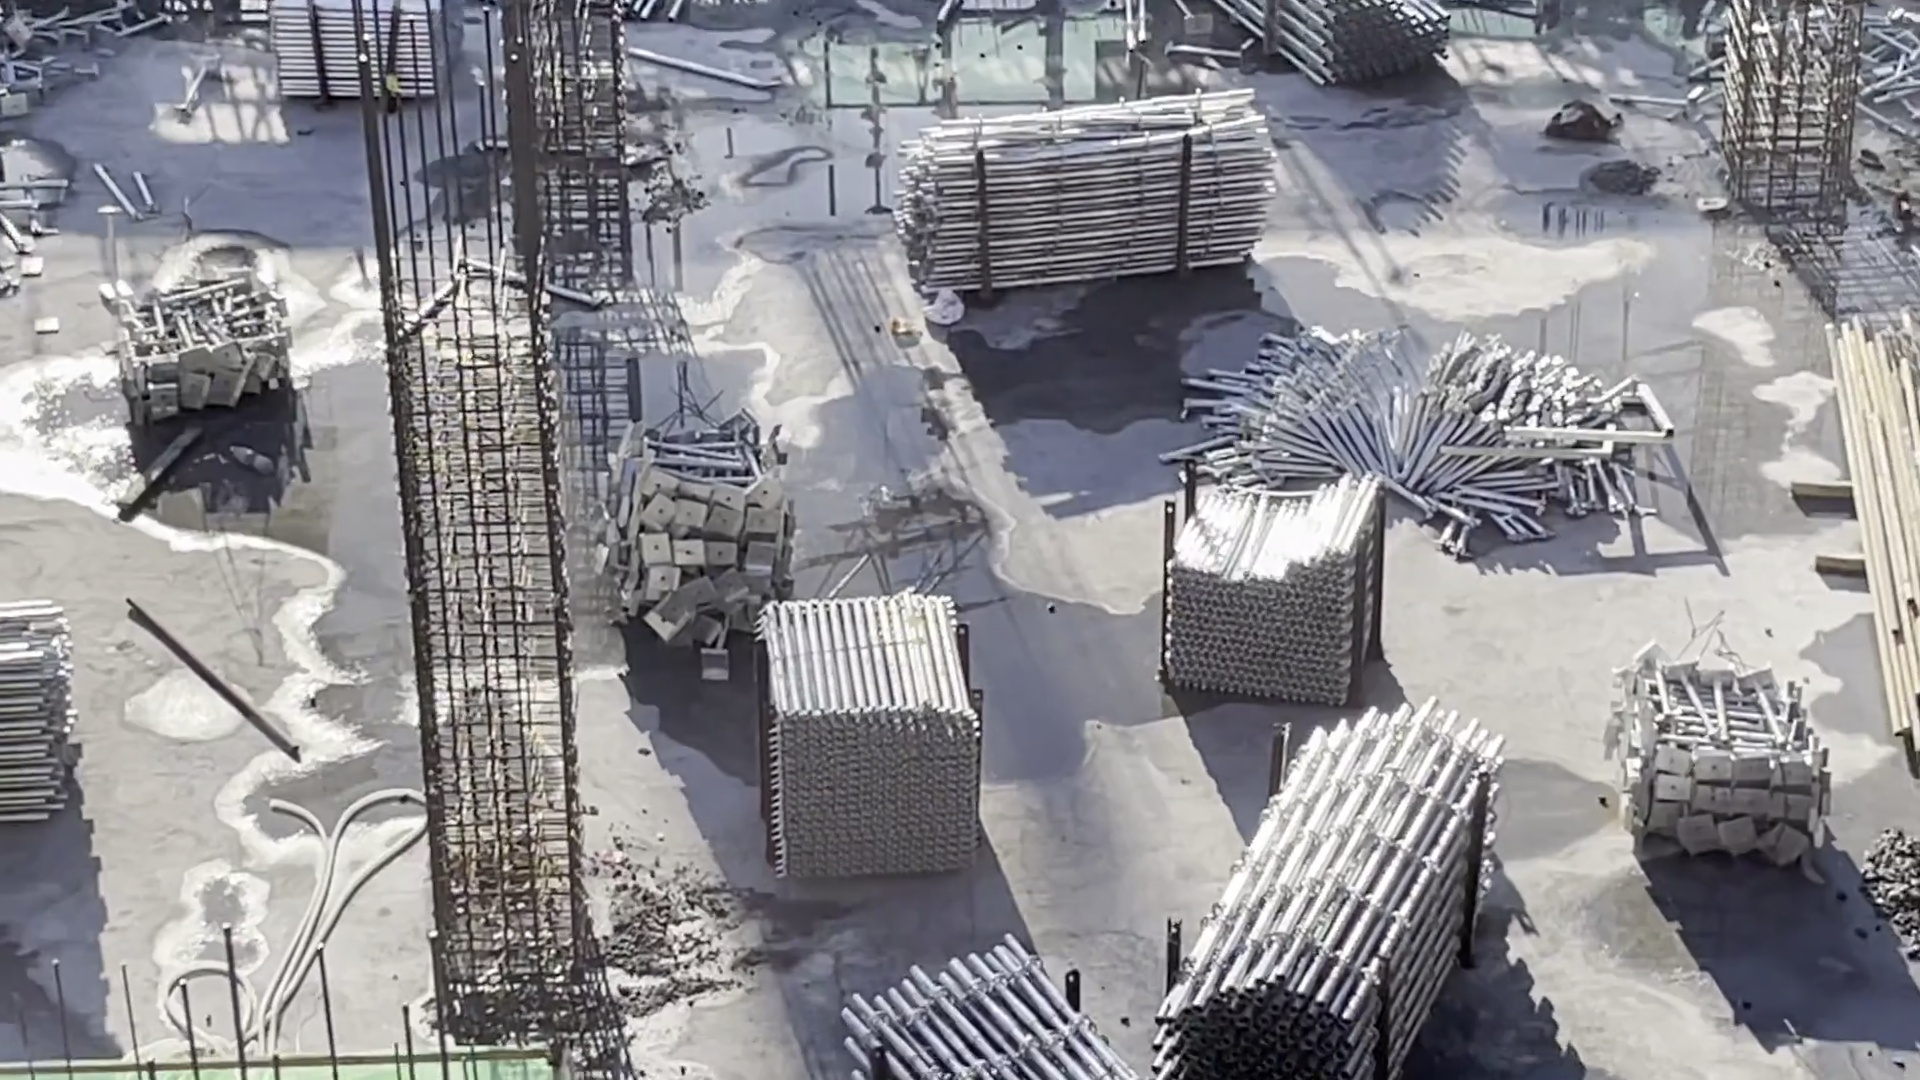scaffold: (1158, 721, 1505, 1065), (1215, 326, 1648, 527), (757, 587, 982, 873), (895, 90, 1255, 255), (1145, 464, 1385, 679), (1619, 649, 1818, 865), (603, 431, 781, 655), (843, 938, 1122, 1080), (113, 284, 295, 418), (262, 3, 454, 105), (1, 583, 92, 798), (1263, 1, 1456, 88)
